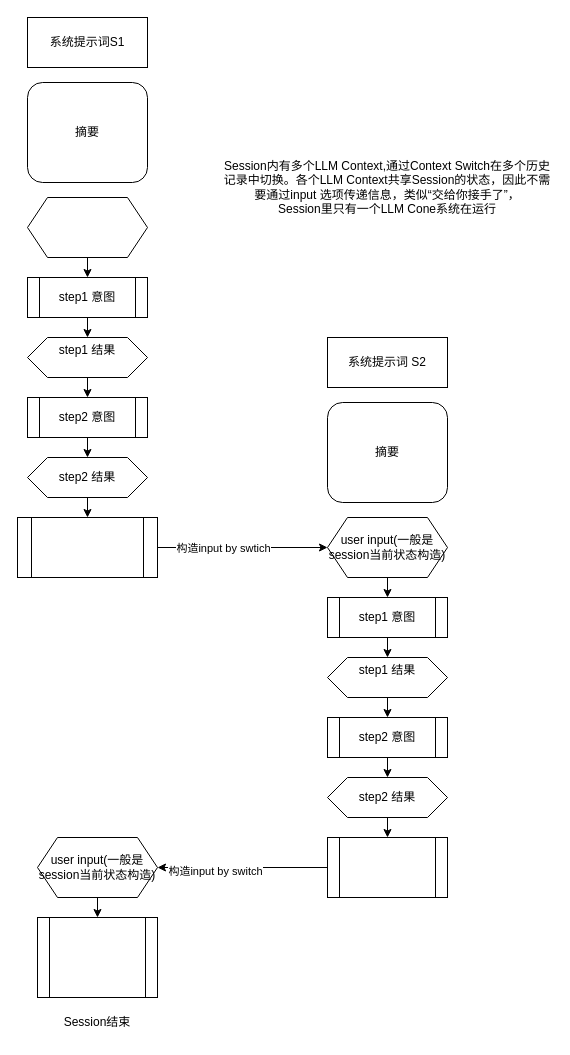
The diagram is 570 pixels wide and 1055 high, and some of its shapes have lost their labels. Here are the shapes that lost their labels. From the top down, the box of each, then its label:
(26, 196, 148, 258): user input message
(16, 516, 158, 578): step3 no action next_behavior=S2
(326, 836, 448, 898): step3 no action next_behavior=S1
(36, 916, 158, 998): step4 no action next behavior = END
